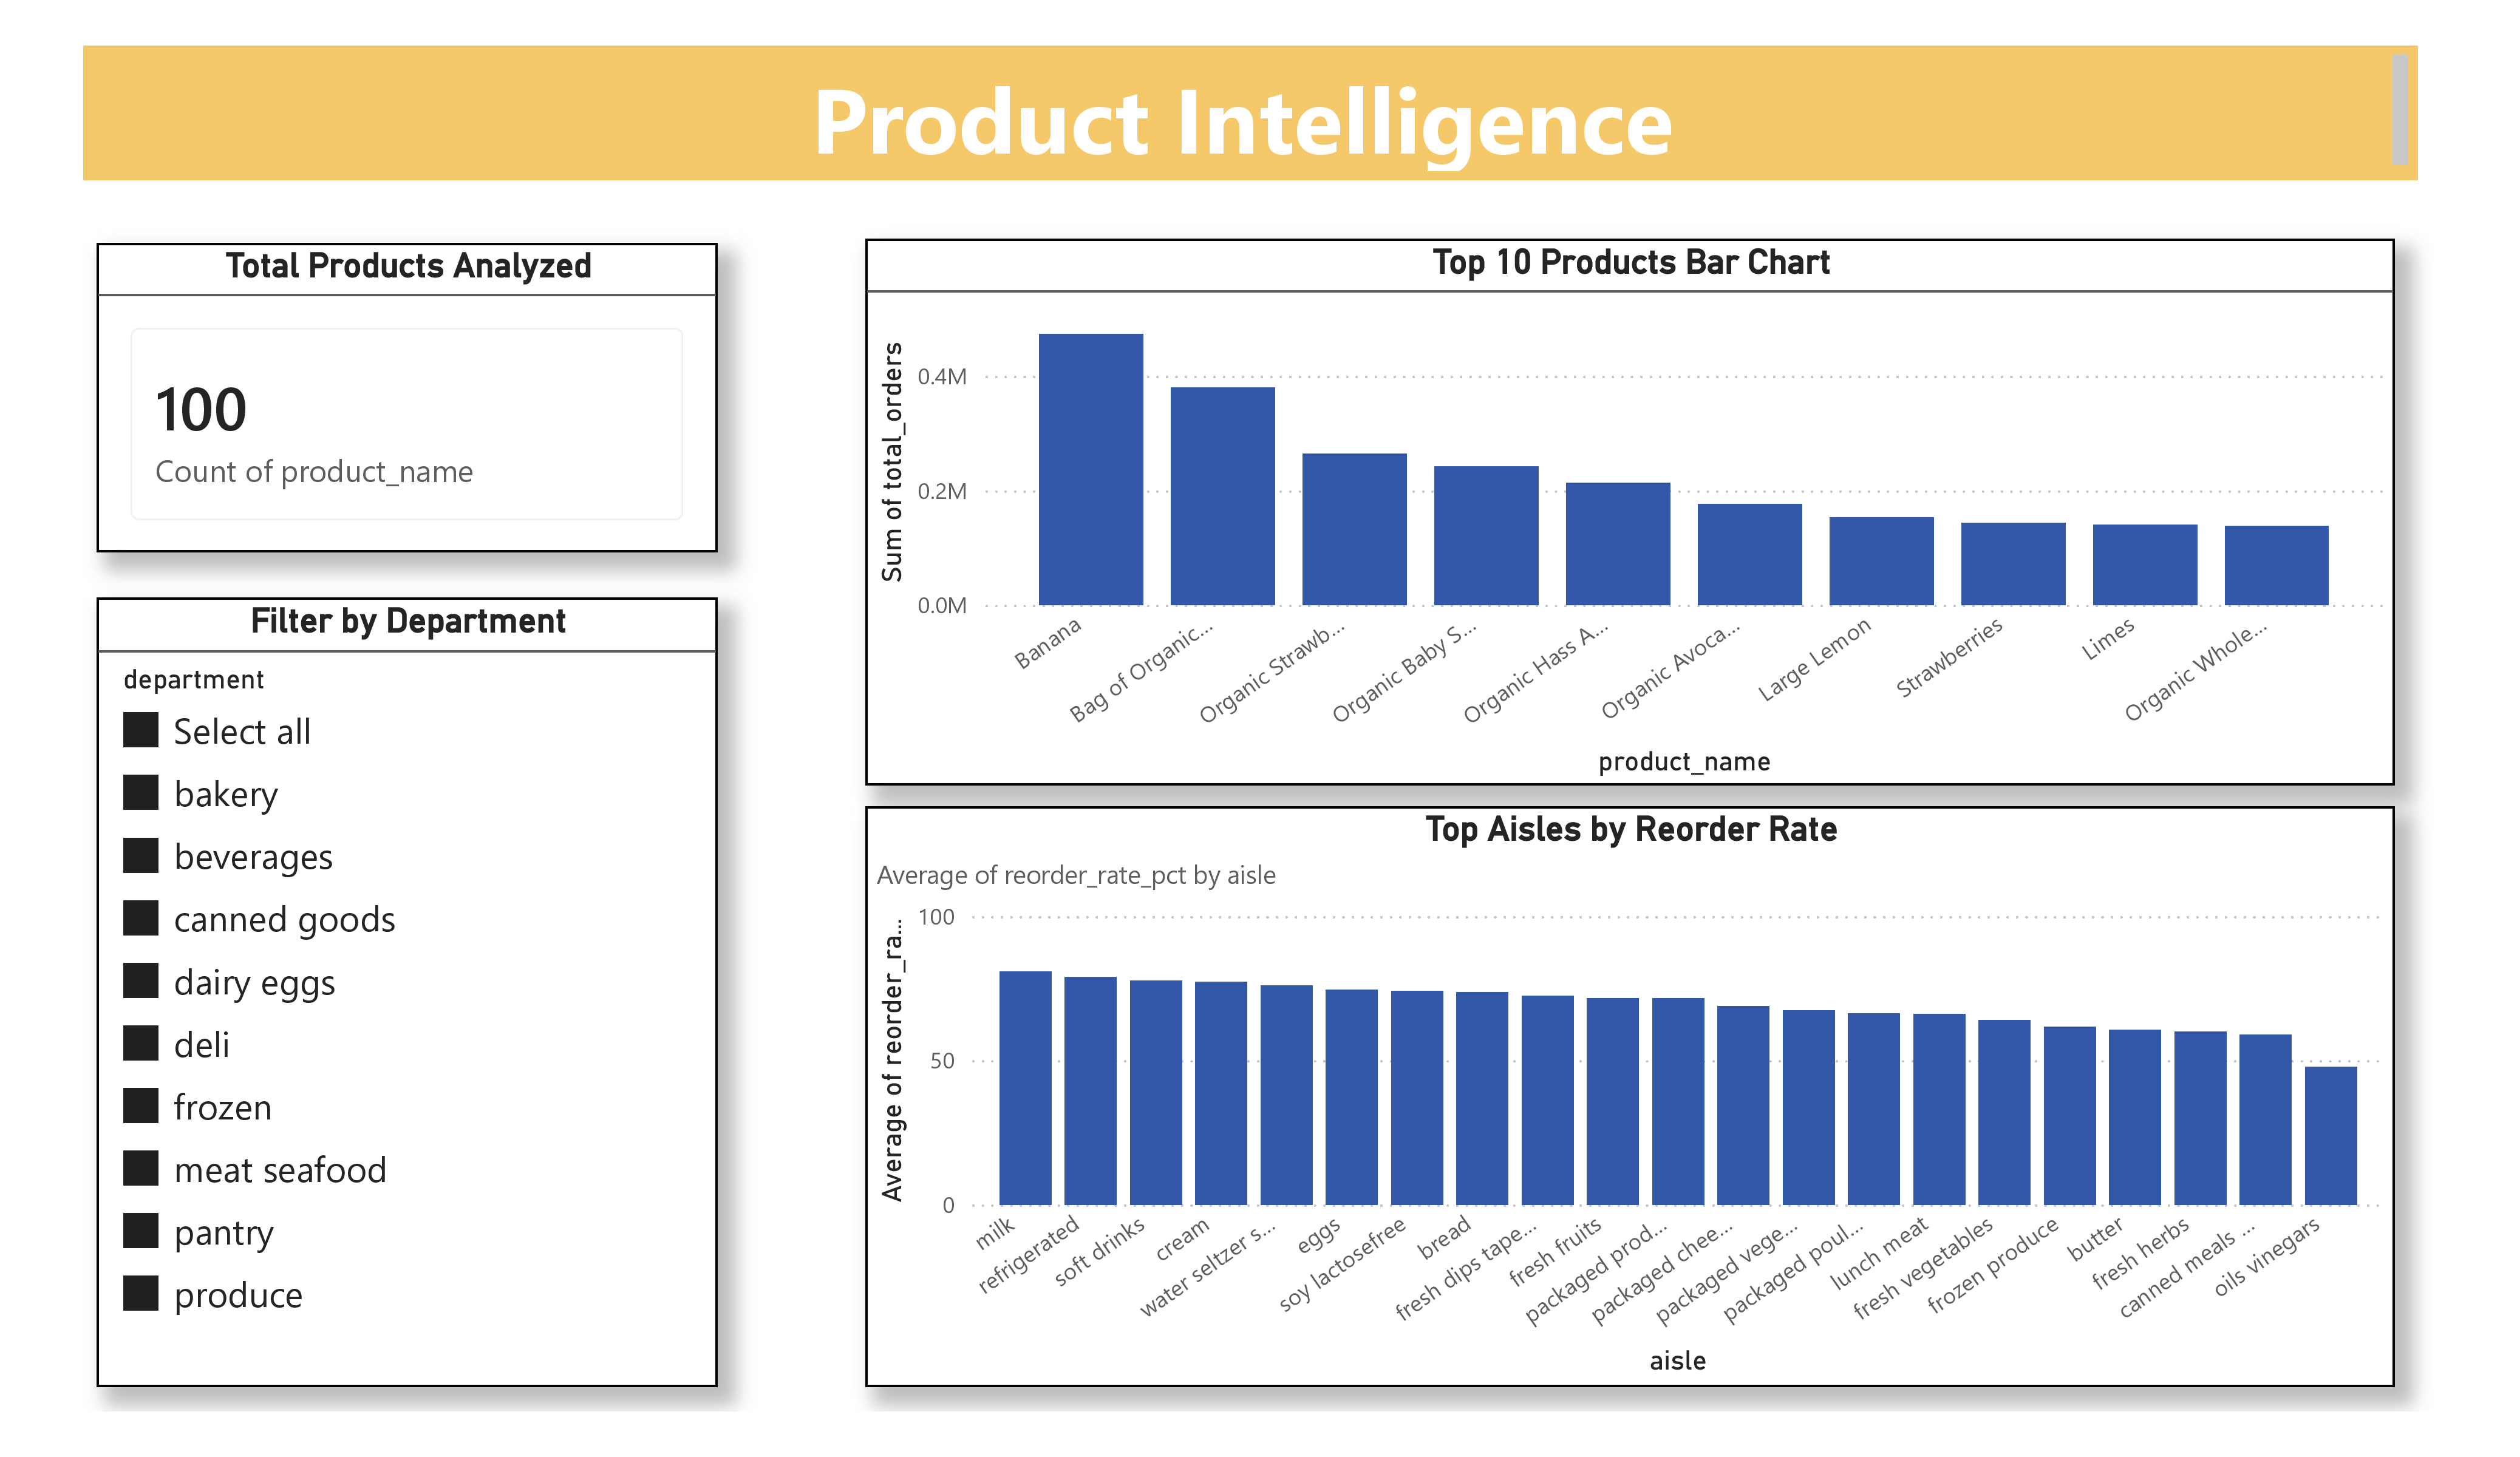

Layout of this report page (visuals, bound fields, positions):
{"tool":"powerbi","page":{"name":"Product Intelligence","canvas":[1280,720],"ordinal":2},"visuals":[{"type":"textbox","box":[20.2,0,1229.8,70.6],"z":0},{"type":"columnChart","title":"Top 10 Products Bar Chart","fields":{"Category":["top_products.product_name"],"Y":["Sum(top_products.total_orders)"]},"box":[431.7,102.5,806.3,287.2],"z":1000},{"type":"columnChart","title":"Top Aisles by Reorder Rate","fields":{"Category":["top_products.aisle"],"Y":["Avg(top_products.reorder_rate_pct)"]},"box":[431.7,401.5,806.3,305.7],"z":1001},{"type":"cardVisual","title":"Total Products Analyzed","fields":{"Data":["CountNonNull(top_products.product_name)"]},"box":[26.9,104.1,327.6,162.9],"z":1002},{"type":"slicer","title":"Filter by Department","fields":{"Values":["top_products.department"]},"box":[26.9,290.6,327.6,416.6],"z":1003}]}

Visuals, with their boxes on the page's 1280x720 design canvas (x1, y1, x2, y2). These are canvas units, not pixel positions in the 2520x1457 screenshot, which may show the page scaled, cropped or inside an application window:
textbox: <region>20, 0, 1250, 71</region>
"Top 10 Products Bar Chart" columnChart: <region>432, 102, 1238, 390</region>
"Top Aisles by Reorder Rate" columnChart: <region>432, 402, 1238, 707</region>
"Total Products Analyzed" cardVisual: <region>27, 104, 354, 267</region>
"Filter by Department" slicer: <region>27, 291, 354, 707</region>
